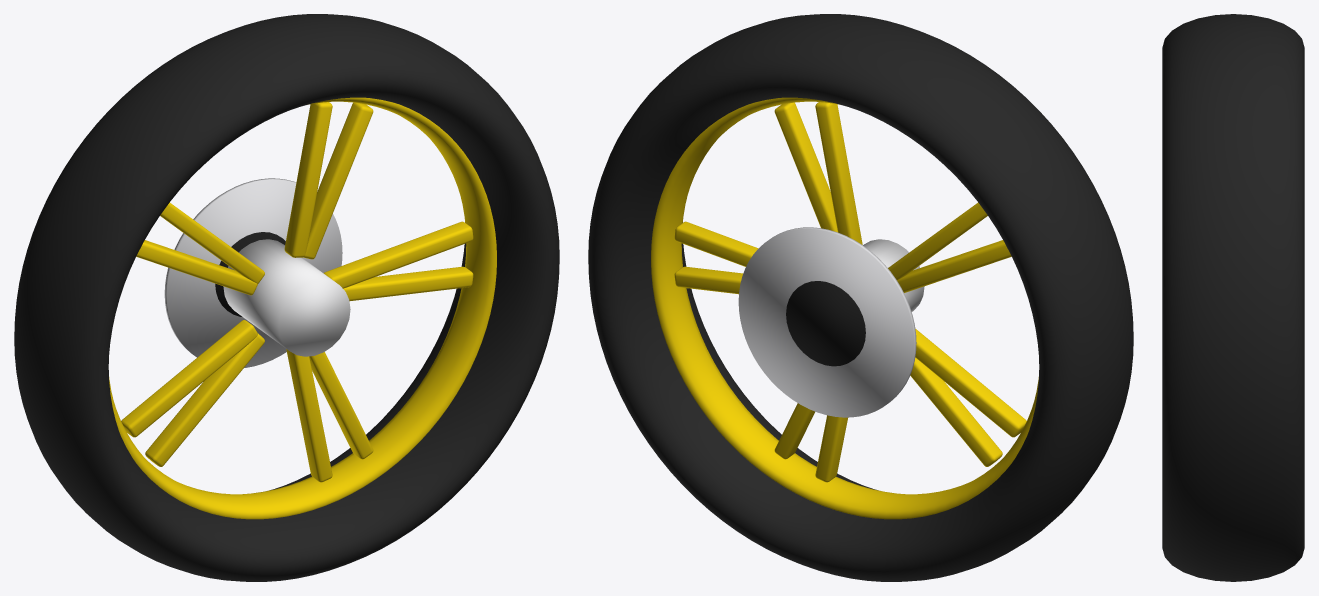
File: NAKED890_RuotaPosteriore.glb
The picture shows the model from 3 angles, left to right: view 1: azimuth 30°, elevation 25°; view 2: azimuth 150°, elevation 25°; view 3: azimuth 270°, elevation 25°; orthographic projection. The views are drawn at different scales.
Visible parts, largest first — view 1: NAKED890_RuotaPosteriore; view 2: NAKED890_RuotaPosteriore; view 3: NAKED890_RuotaPosteriore.
Part boxes in pixels (x1,y1,x2,y2): NAKED890_RuotaPosteriore: (14,14,559,581); NAKED890_RuotaPosteriore: (588,14,1133,581); NAKED890_RuotaPosteriore: (1162,14,1304,581).
Size of the model in its own units: 0.64 by 0.64 by 0.16.
